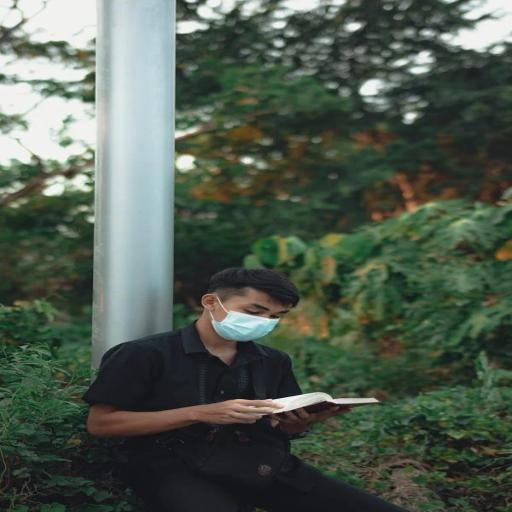mask: (180, 264, 326, 366)
